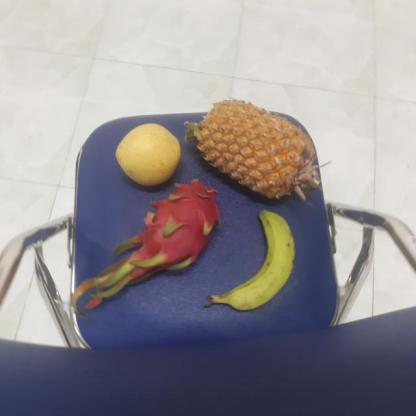banana: (207, 207, 295, 312)
pear: (112, 122, 183, 187)
pineapple: (189, 95, 317, 206)
pitaya: (132, 180, 221, 271)
